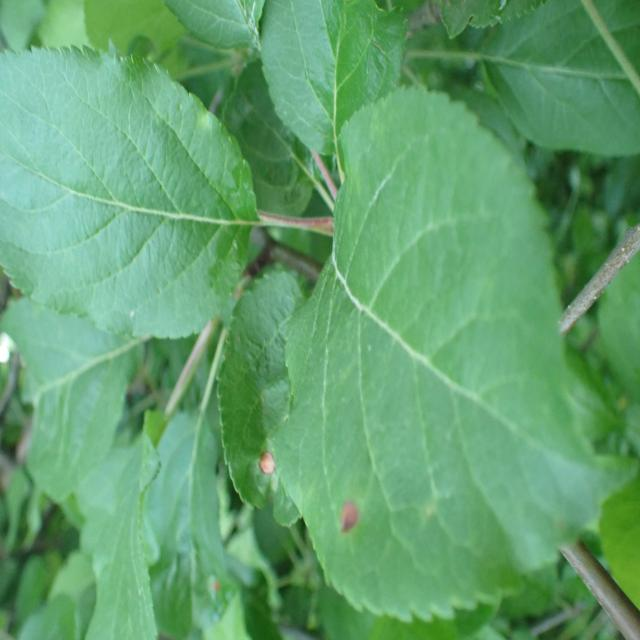frog-eye-leaf-spot: (268, 84, 632, 622), (216, 266, 312, 526)
